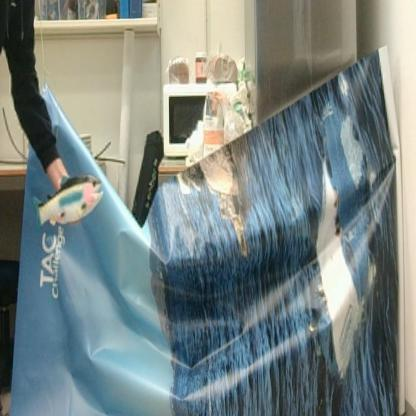rubberfish: (32, 172, 104, 228)
